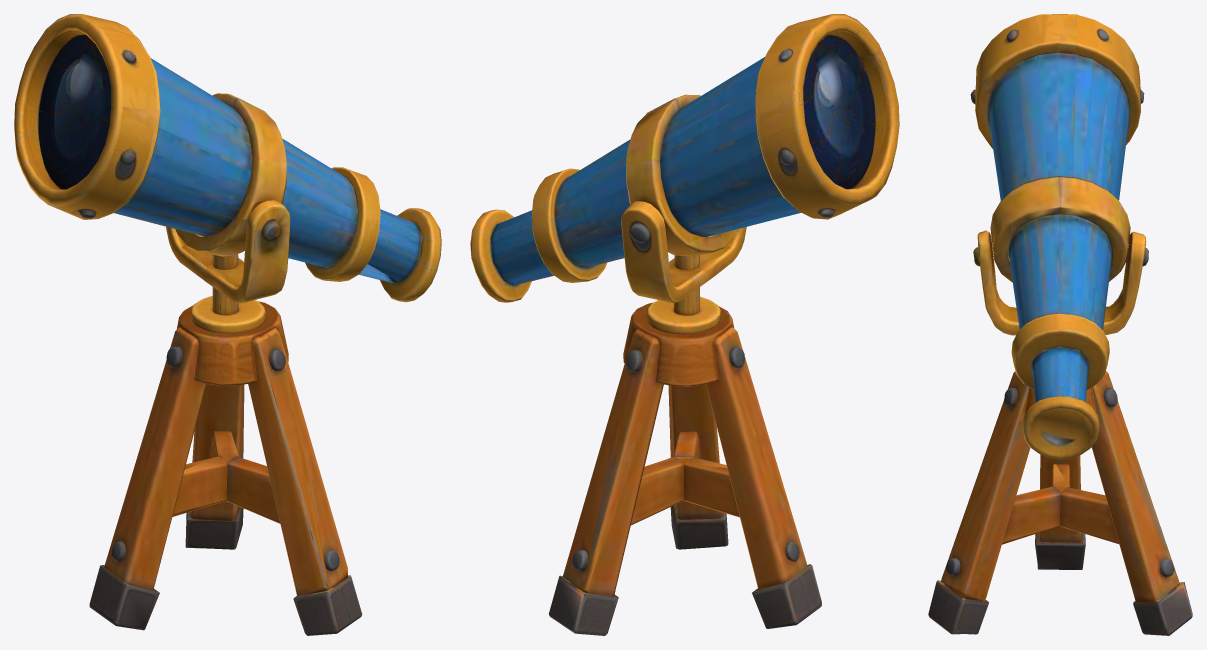
The model's file is telescope.glb.
The picture shows the model from 3 angles, left to right: view 1: azimuth 30°, elevation 25°; view 2: azimuth 150°, elevation 25°; view 3: azimuth 270°, elevation 25°; orthographic projection. The views are drawn at different scales.
Size of the model in its own units: 0.6737 by 1 by 0.4458.
Materials: 1 (1 with a texture image).
